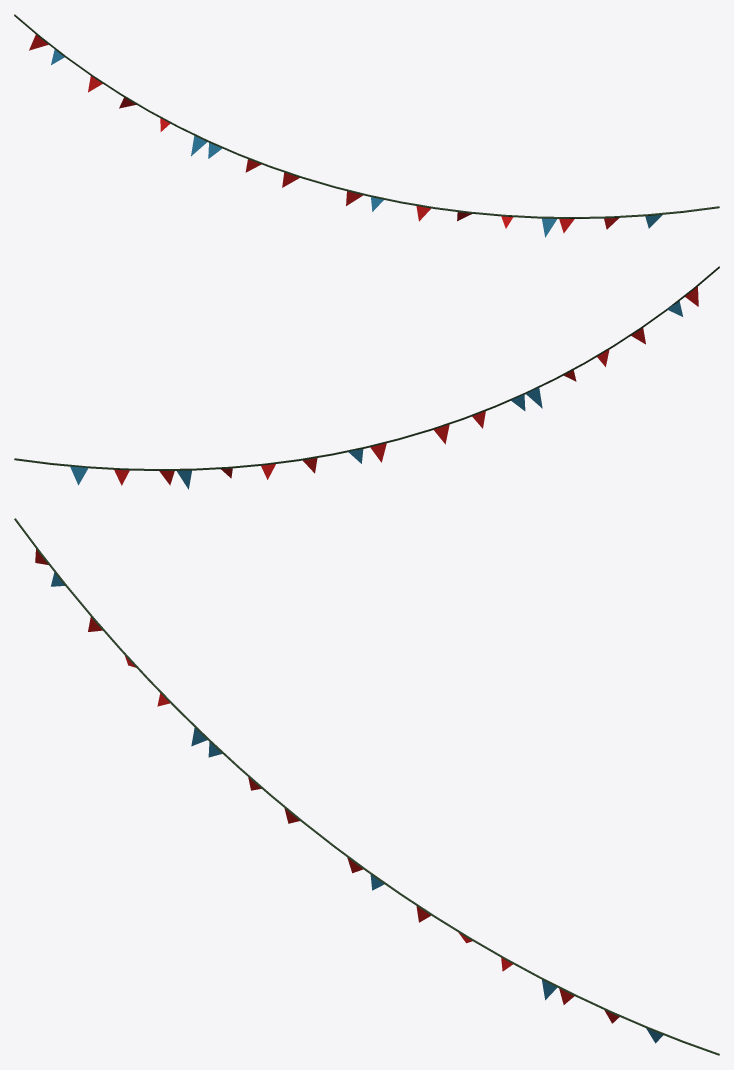
The model's file is SM_rope_stripes_01.fbx.
3 renders of one model, top to bottom at view 1: azimuth 30°, elevation 25°; view 2: azimuth 150°, elevation 25°; view 3: azimuth 330°, elevation 25°, orthographic.
Visible parts, largest first — view 1: Line033; view 2: Line033; view 3: Line033.
Boxes of the visible parts, <box> form: Line033: <box>14,14,719,237</box>; Line033: <box>14,266,719,489</box>; Line033: <box>14,518,719,1055</box>.
Bounding box in the file's own units: 644 × 9.95 × 325.
